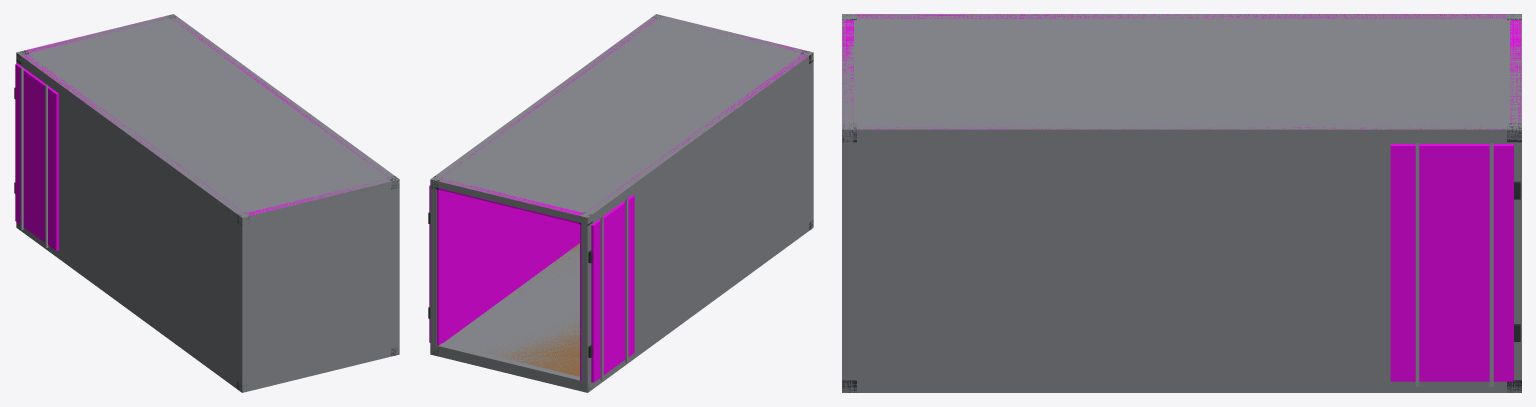
Rendered from prop_container_open.glb.
3 renders of one model, left to right at view 1: azimuth 30°, elevation 25°; view 2: azimuth 150°, elevation 25°; view 3: azimuth 270°, elevation 25°, orthographic. The views are drawn at different scales.
Parts seen in each view (by area): view 1: prop_container_open__col, prop_container_open__mesh; view 2: prop_container_open__col, prop_container_open__mesh; view 3: prop_container_open__col, prop_container_open__mesh.
Part boxes in pixels (bbox=[...]): prop_container_open__col: bbox=[16, 14, 399, 392]; prop_container_open__mesh: bbox=[14, 14, 399, 391]; prop_container_open__col: bbox=[430, 14, 813, 392]; prop_container_open__mesh: bbox=[428, 15, 813, 391]; prop_container_open__col: bbox=[842, 14, 1521, 392]; prop_container_open__mesh: bbox=[842, 14, 1521, 392].
Size of what is drawn, in the model's own units: 2.6 by 2.59 by 6.06.
2 materials, 2 textured.
